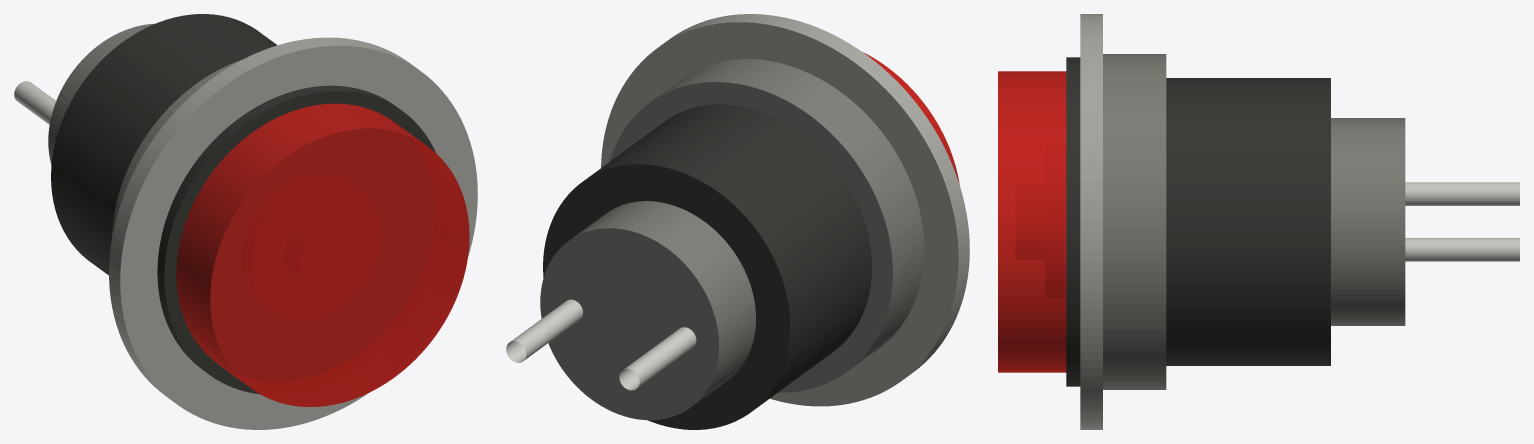
File: led_ring.glb
3 views of the same model, side by side, from view 1: azimuth 30°, elevation 25°; view 2: azimuth 150°, elevation 25°; view 3: azimuth 270°, elevation 25° (orthographic).
Parts seen in each view (by area): view 1: Red jewel cylindrical shoulder, Metal mounting flange, Rear lamp socket body, Black jewel seat, Rear mounting neck, Lamp housing shoulder, Electrical terminal -0.0019; view 2: Rear lamp socket body, Rear mounting neck, Metal mounting flange, Lamp housing shoulder, Electrical terminal -0.0019, Electrical terminal +0.0019, Red jewel cylindrical shoulder; view 3: Rear lamp socket body, Lamp housing shoulder, Red jewel cylindrical shoulder, Rear mounting neck, Metal mounting flange, Black jewel seat, Electrical terminal -0.0019, Electrical terminal +0.0019.
Boxes of the visible parts, x1,y1,x2,y2 form: Red jewel cylindrical shoulder: [176, 103, 469, 406]; Metal mounting flange: [109, 37, 477, 429]; Rear lamp socket body: [51, 14, 276, 275]; Black jewel seat: [157, 85, 435, 394]; Rear mounting neck: [48, 23, 154, 165]; Lamp housing shoulder: [112, 59, 242, 237]; Electrical terminal -0.0019: [14, 81, 55, 124]; Rear lamp socket body: [543, 104, 871, 429]; Rear mounting neck: [540, 201, 755, 420]; Metal mounting flange: [601, 14, 969, 406]; Lamp housing shoulder: [609, 59, 924, 392]; Electrical terminal -0.0019: [619, 327, 696, 390]; Electrical terminal +0.0019: [506, 299, 583, 362]; Red jewel cylindrical shoulder: [863, 52, 959, 184]; Rear lamp socket body: [1166, 78, 1330, 365]; Lamp housing shoulder: [1103, 54, 1166, 389]; Red jewel cylindrical shoulder: [998, 71, 1066, 372]; Rear mounting neck: [1331, 118, 1405, 325]; Metal mounting flange: [1080, 14, 1102, 429]; Black jewel seat: [1066, 57, 1080, 386]; Electrical terminal -0.0019: [1405, 182, 1519, 205]; Electrical terminal +0.0019: [1405, 238, 1519, 261].
Size of the model in its own units: 0.012 by 0.012 by 0.0151.
